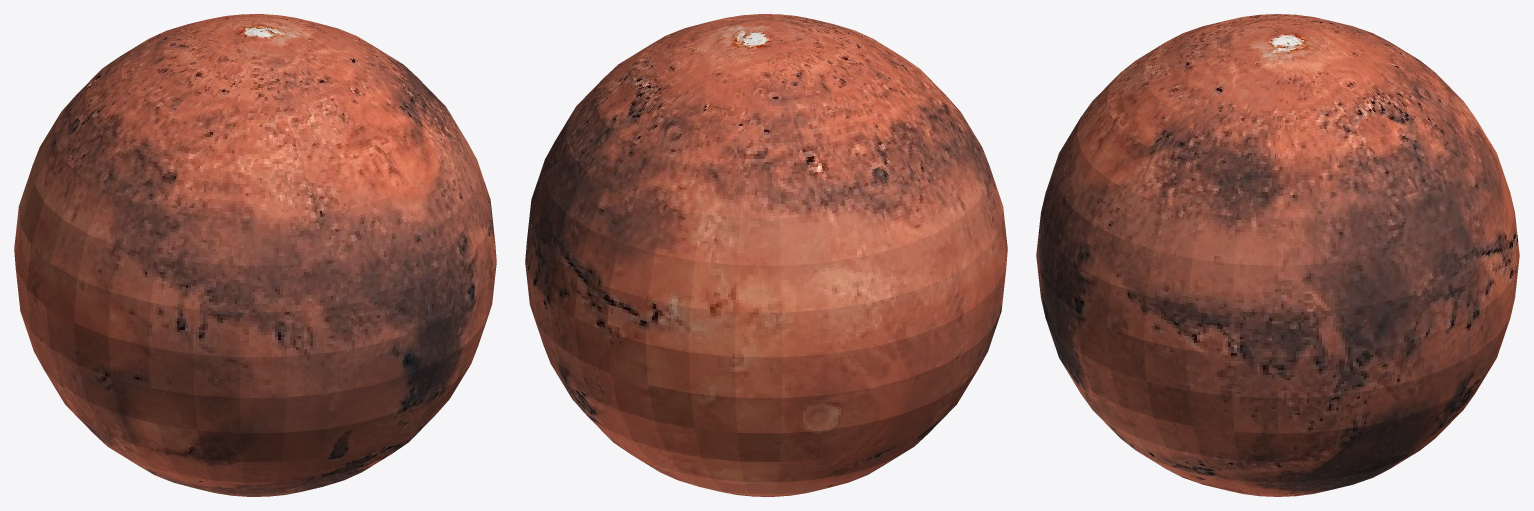
File: mars.glb
3 renders of one model, left to right at view 1: azimuth 30°, elevation 25°; view 2: azimuth 150°, elevation 25°; view 3: azimuth 270°, elevation 25°, orthographic.
Parts seen in each view (by area): view 1: Mars; view 2: Mars; view 3: Mars.
Part boxes in pixels (x1,y1,x2,y2): Mars: [14, 14, 496, 496]; Mars: [525, 14, 1007, 496]; Mars: [1036, 14, 1519, 496].
Bounding box in the file's own units: 13.83 × 13.83 × 13.83.
Materials: 4 (3 with a texture image).
